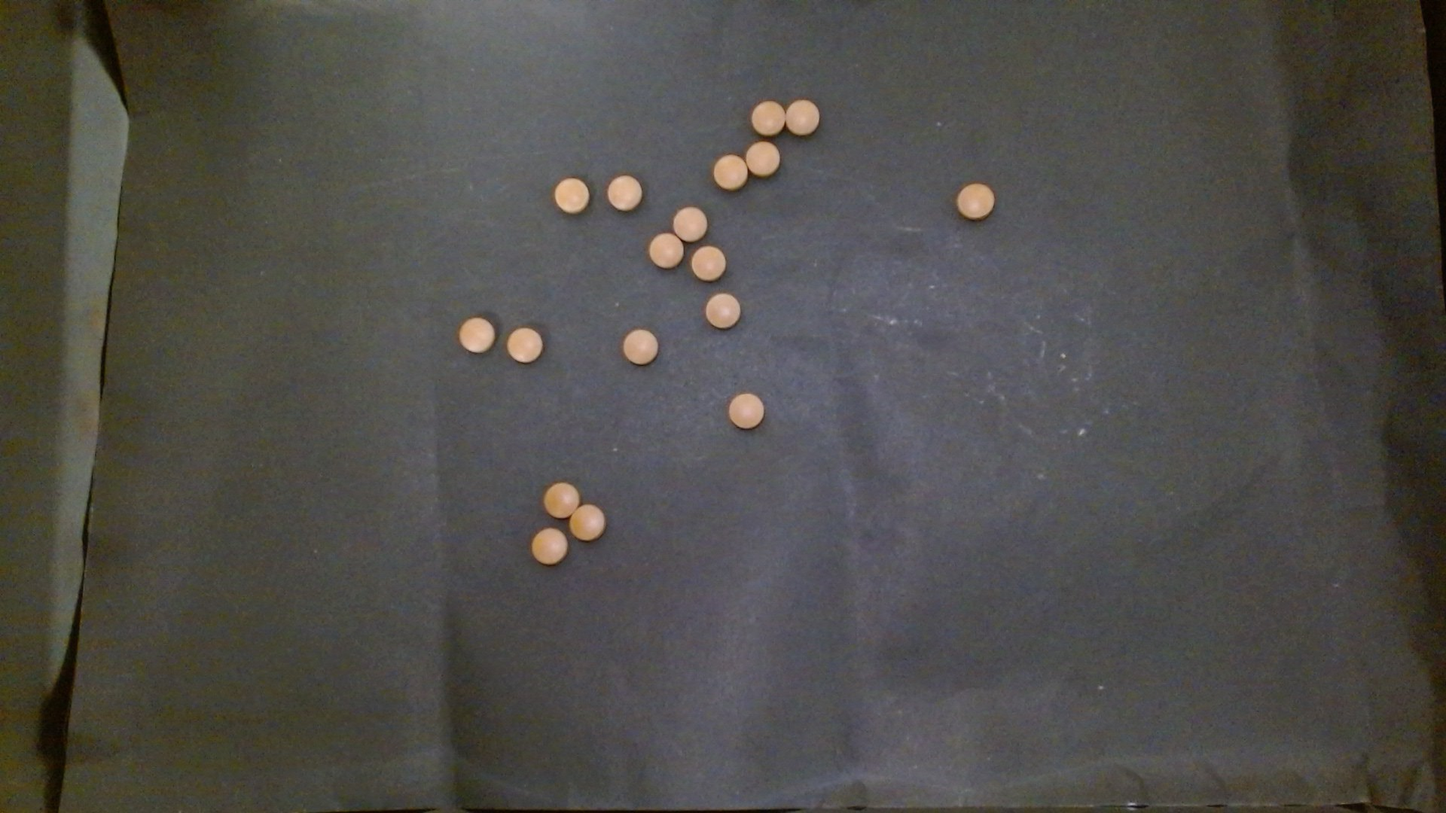Circle: (703, 291, 742, 331), (542, 480, 580, 519), (530, 527, 568, 566), (621, 327, 659, 366), (457, 316, 495, 354), (712, 153, 749, 191), (506, 326, 543, 364), (569, 504, 606, 542), (553, 176, 590, 213), (956, 182, 993, 219), (690, 245, 726, 282), (728, 391, 764, 428), (606, 174, 642, 211), (648, 232, 684, 269), (784, 98, 819, 136), (744, 140, 780, 176), (751, 99, 786, 136), (673, 206, 707, 242)
